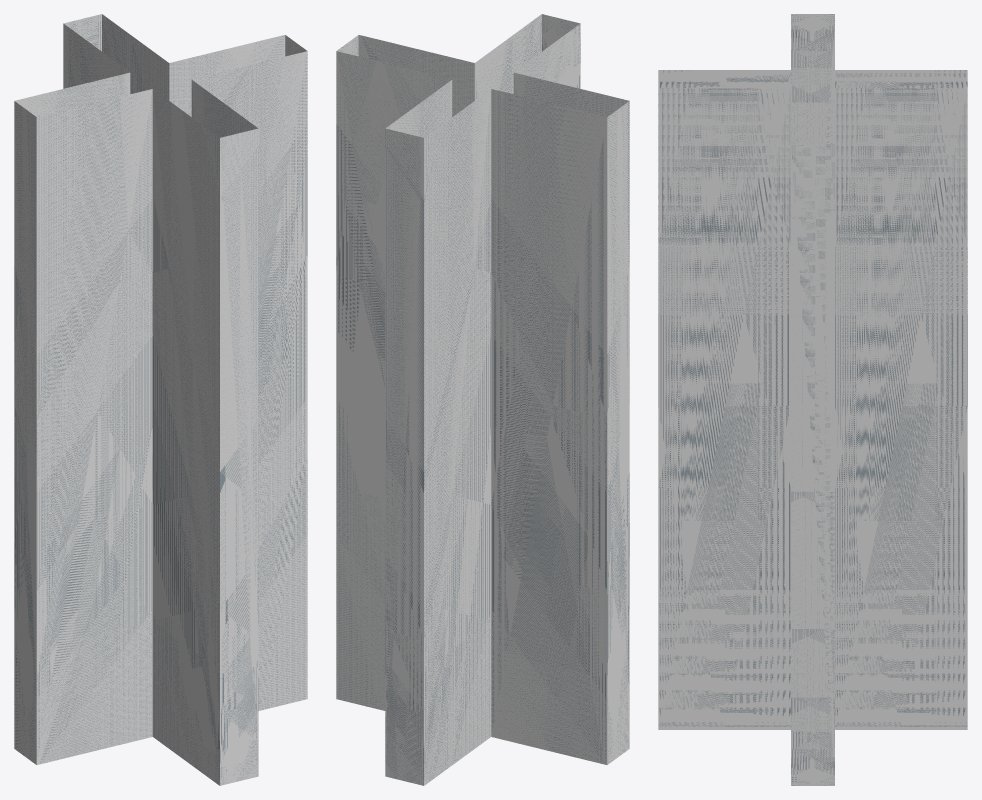
File: Corner_ds_cross_075x075x025x4.dae
The picture shows the model from 3 angles, left to right: view 1: azimuth 30°, elevation 25°; view 2: azimuth 150°, elevation 25°; view 3: azimuth 270°, elevation 25°; orthographic projection.
Parts seen in each view (by area): view 1: group_0; view 2: group_0; view 3: group_0.
Part boxes in pixels (box(x1,y1,x2,y2)): group_0: box(14, 14, 307, 785); group_0: box(336, 14, 629, 785); group_0: box(658, 14, 967, 785).
Bounding box in the file's own units: 68.9 × 68.9 × 157.
